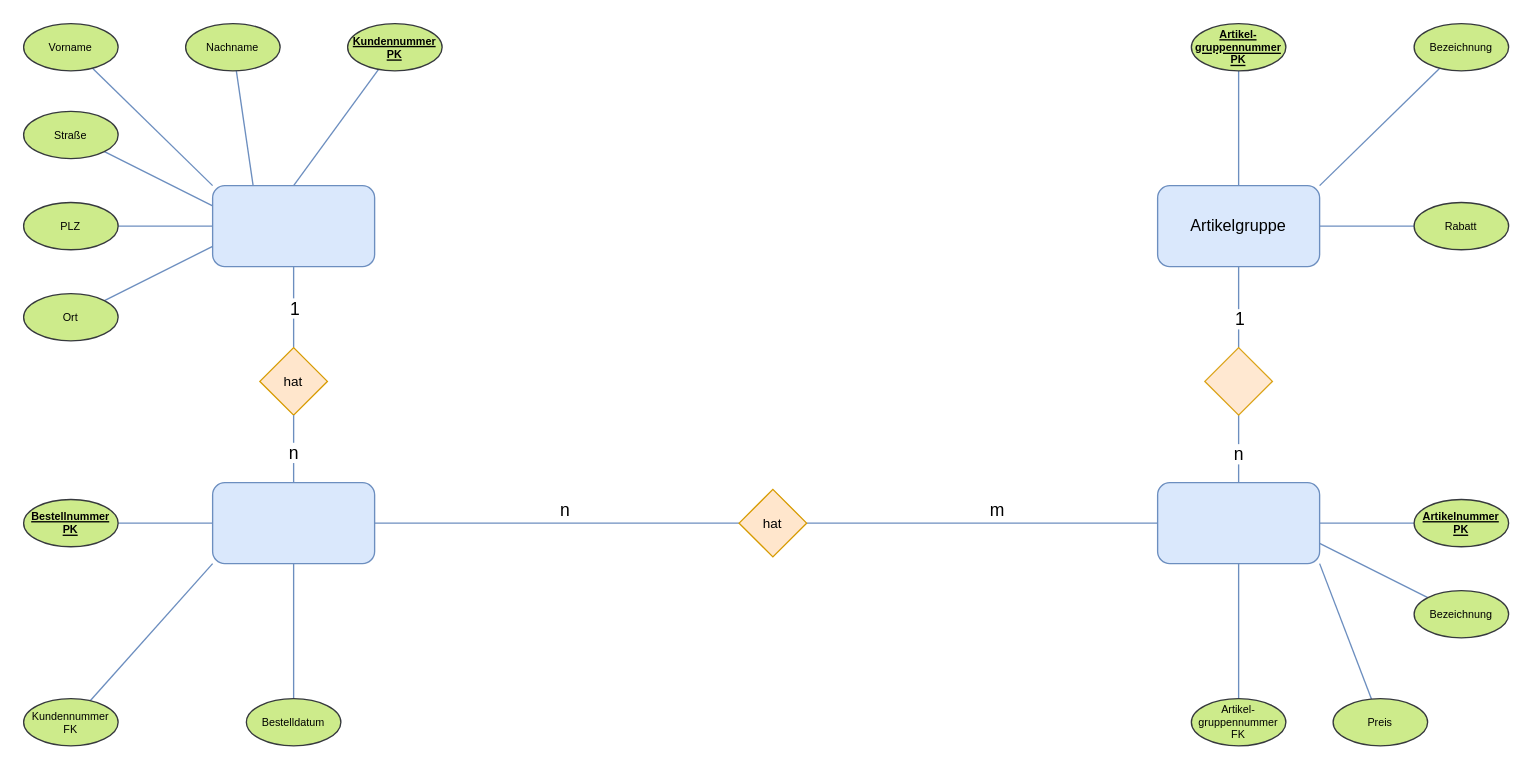
The diagram is 1532 pixels wide and 770 high, and some of its shapes have lost their labels. The box of each missing label's shape, as (x1, y1, x2, y2) in pixels:
Artikel: (1156, 481, 1320, 564)
beinhaltet: (1204, 346, 1272, 415)
Bestellung: (211, 481, 375, 564)
Kunde: (211, 184, 375, 267)
